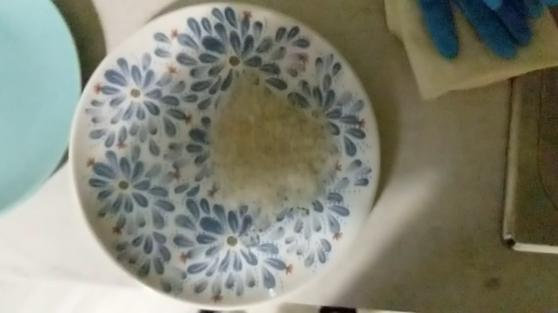rice: (192, 56, 355, 223)
